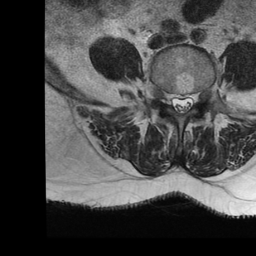CCS_normal: (177, 84, 185, 121)
LFS_normal: (194, 82, 204, 112)
LLS_normal: (185, 85, 194, 116)
RFS_normal: (161, 81, 170, 112)
RLS_normal: (170, 85, 177, 115)
